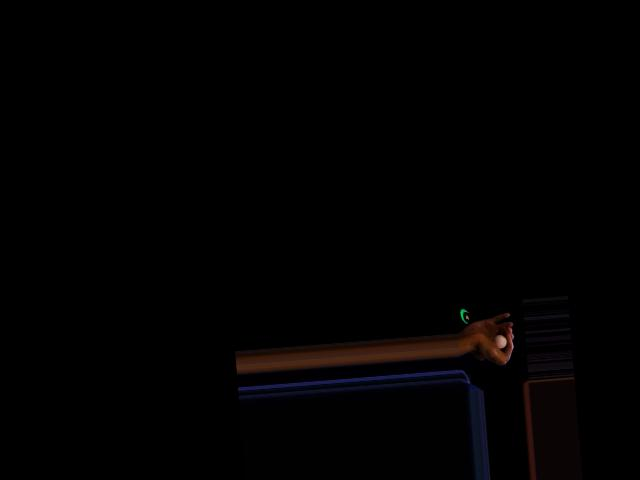egg: (495, 334, 507, 349)
